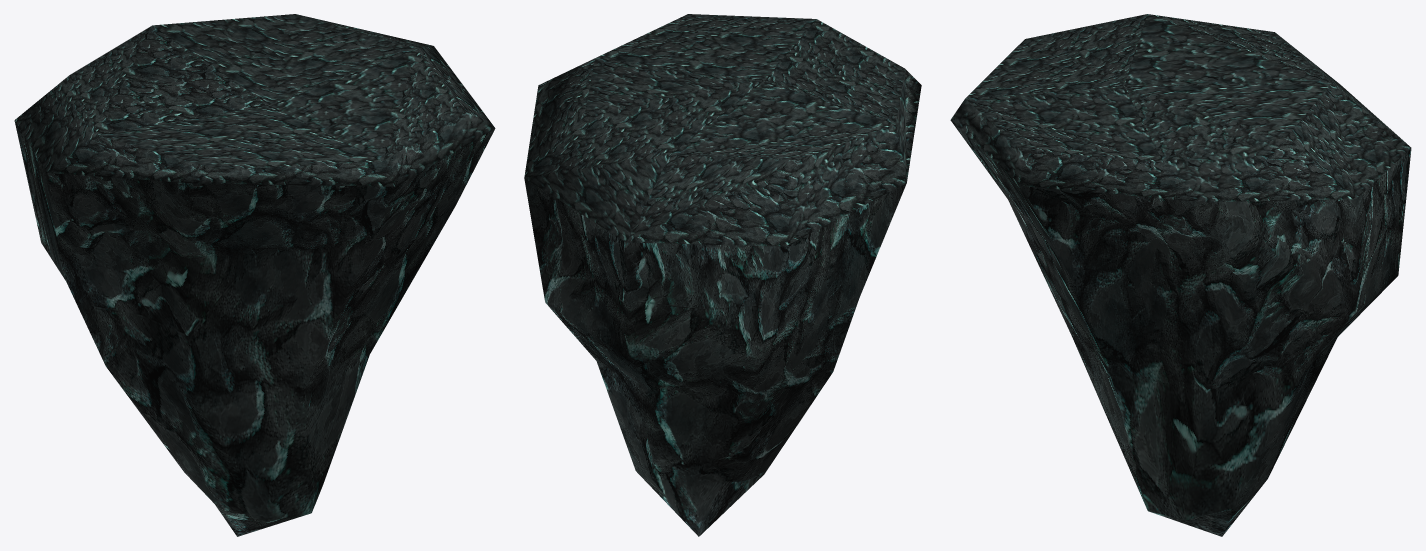
File: Rock_02.glb
The picture shows the model from 3 angles, left to right: view 1: azimuth 30°, elevation 25°; view 2: azimuth 150°, elevation 25°; view 3: azimuth 270°, elevation 25°; orthographic projection. The views are drawn at different scales.
Visible parts, largest first — view 1: Rock_02; view 2: Rock_02; view 3: Rock_02.
Boxes of the visible parts, bbox=[...] form: Rock_02: bbox=[14, 14, 495, 536]; Rock_02: bbox=[524, 14, 921, 536]; Rock_02: bbox=[950, 14, 1411, 536].
Bounding box in the file's own units: 7.16 × 8.15 × 7.71.
1 material, 1 textured.
